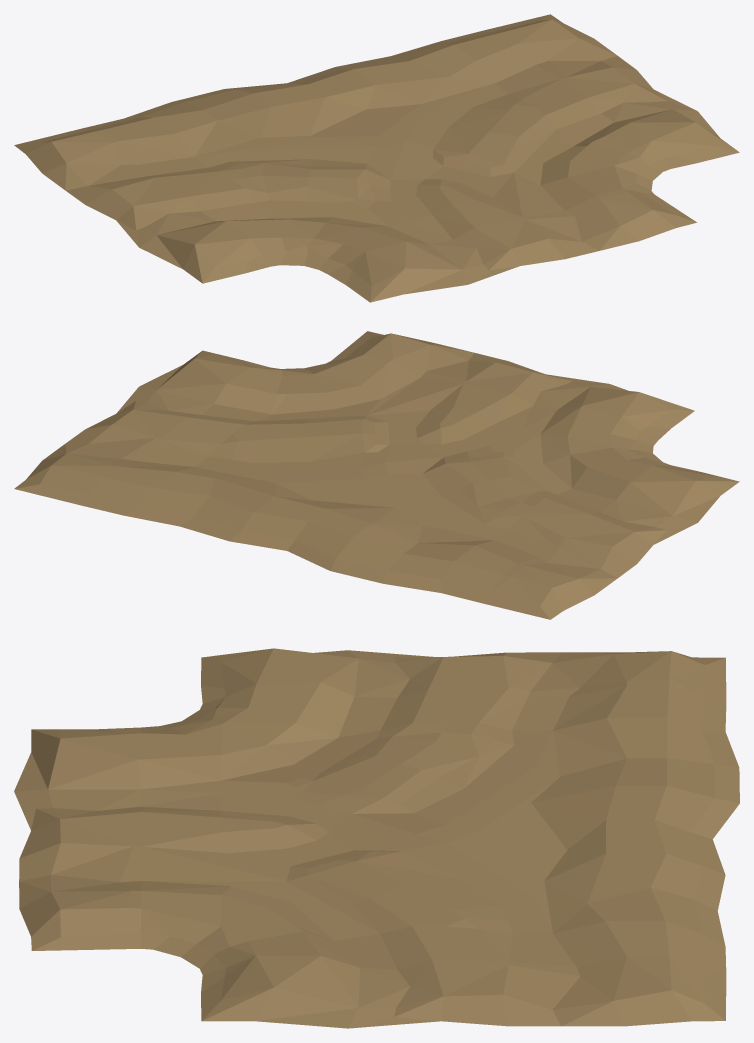
The model's file is SM_Envr_Nature_Farm_DirtRoad_Intersection_01.fbx.
3 renders of one model, top to bottom at view 1: azimuth 30°, elevation 25°; view 2: azimuth 150°, elevation 25°; view 3: azimuth 270°, elevation 25°, orthographic. The views are drawn at different scales.
Visible parts, largest first — view 1: SM_Envr_Nature_Farm_DirtRoad_Intersection_01; view 2: SM_Envr_Nature_Farm_DirtRoad_Intersection_01; view 3: SM_Envr_Nature_Farm_DirtRoad_Intersection_01.
Part boxes in pixels (box(x1,y1,x2,y2)): SM_Envr_Nature_Farm_DirtRoad_Intersection_01: box(14, 14, 739, 302); SM_Envr_Nature_Farm_DirtRoad_Intersection_01: box(14, 331, 739, 619); SM_Envr_Nature_Farm_DirtRoad_Intersection_01: box(14, 648, 739, 1028).
Bounding box in the file's own units: 1117 × 29.55 × 906.
